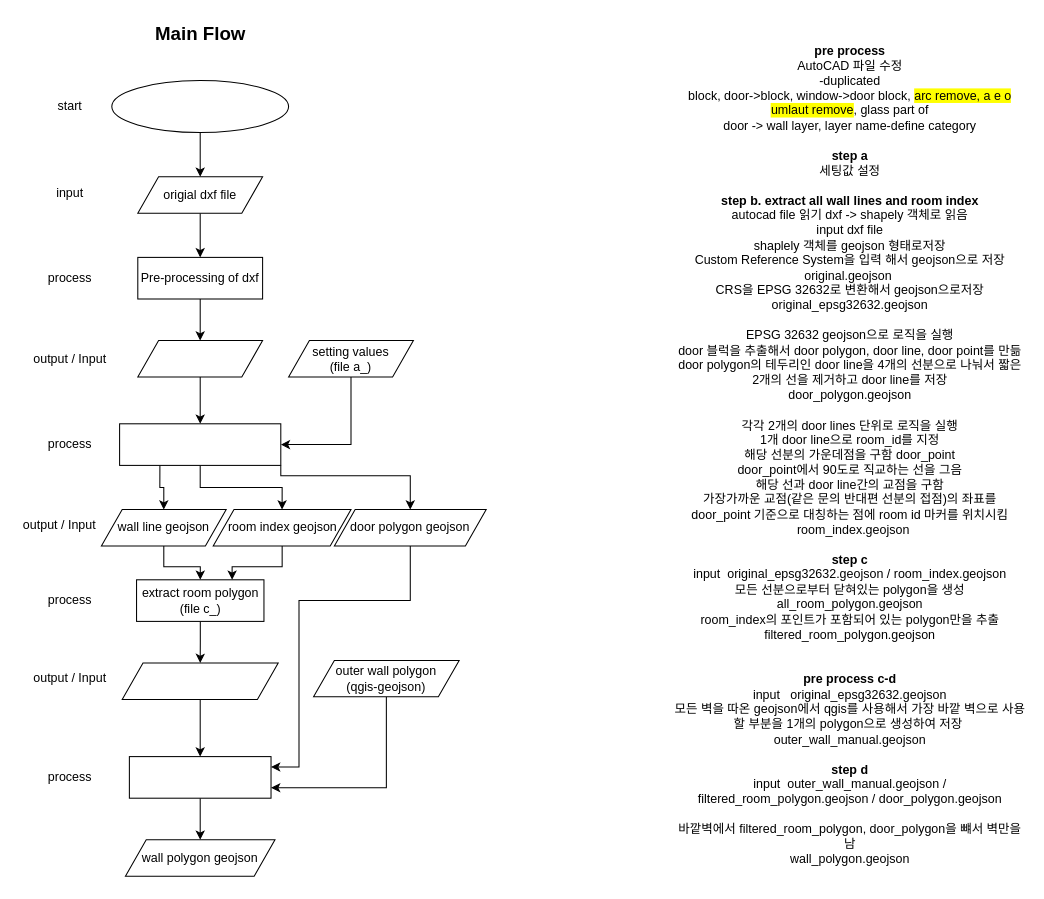
Some shapes in this 1044 by 899 pixel diagram are drawn without their labels. The box of each missing label's shape, as (x1, y1, x2, y2) in pixels:
Creating Floor plan geojson: (111, 80, 289, 133)
extract features from dxf file (file b_): (119, 423, 281, 465)
extract wall polygon (file d_): (128, 756, 271, 798)
processed dxf file: (137, 340, 263, 377)
room polygon geojson: (121, 662, 278, 699)
